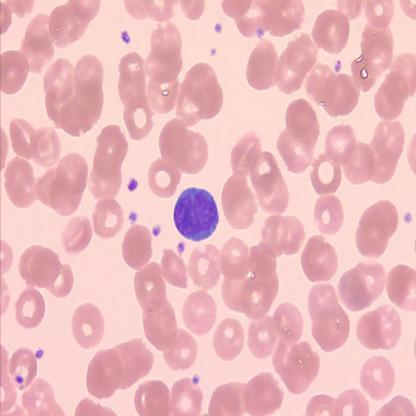Atypical lymphocyte: (172, 185, 221, 243)
